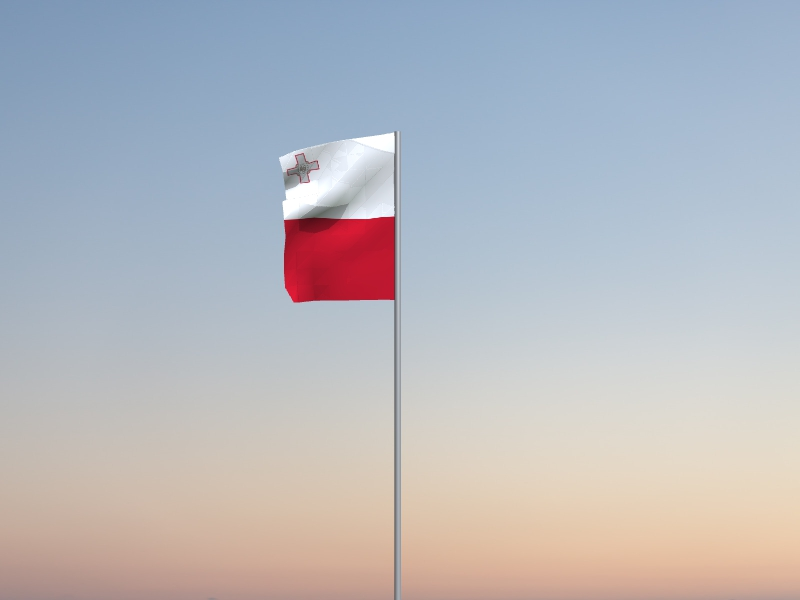mt: (278, 133, 395, 305)
